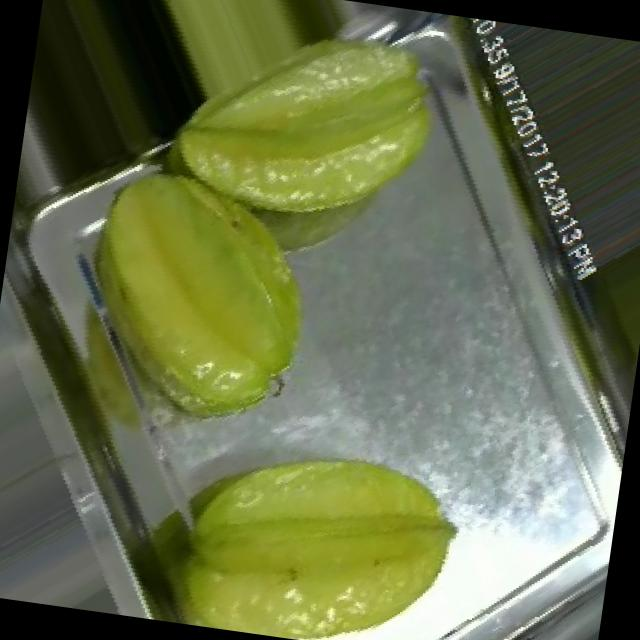fruit: (12, 118, 396, 490), (84, 0, 487, 337), (121, 357, 521, 640), (542, 137, 640, 448)
